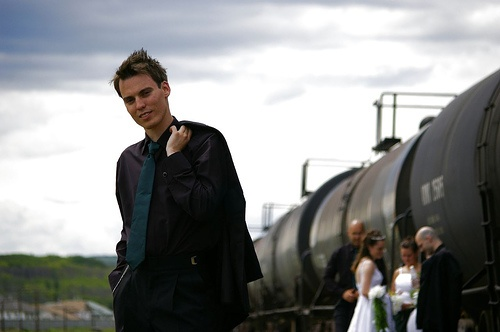head: (114, 51, 172, 131), (415, 225, 444, 260), (397, 237, 420, 271), (364, 230, 387, 263), (345, 217, 367, 248)
person: (97, 45, 258, 332), (411, 223, 463, 332), (322, 218, 365, 330), (350, 230, 396, 331), (388, 235, 420, 331)
